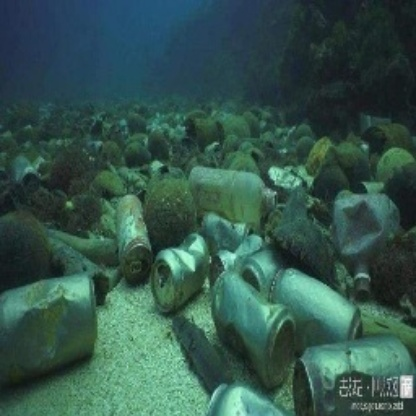bottle: (208, 269, 296, 386), (189, 163, 280, 227), (110, 197, 155, 285)
